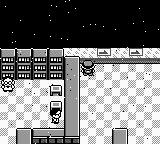main: (81, 60, 95, 76)
no-caminable: (1, 49, 64, 79), (64, 48, 160, 64), (64, 56, 80, 143), (33, 129, 64, 143), (112, 129, 128, 144), (17, 129, 31, 144)
npc: (1, 77, 15, 92), (50, 108, 62, 124)
